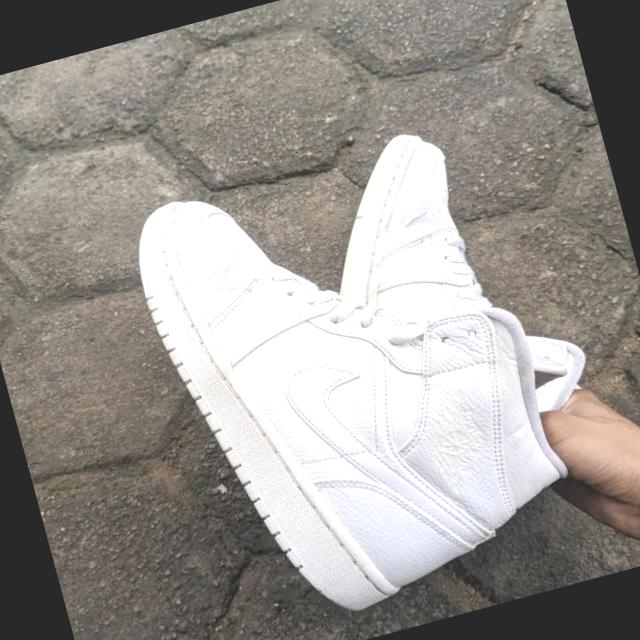nike_fake_jordan: (110, 113, 624, 640)
